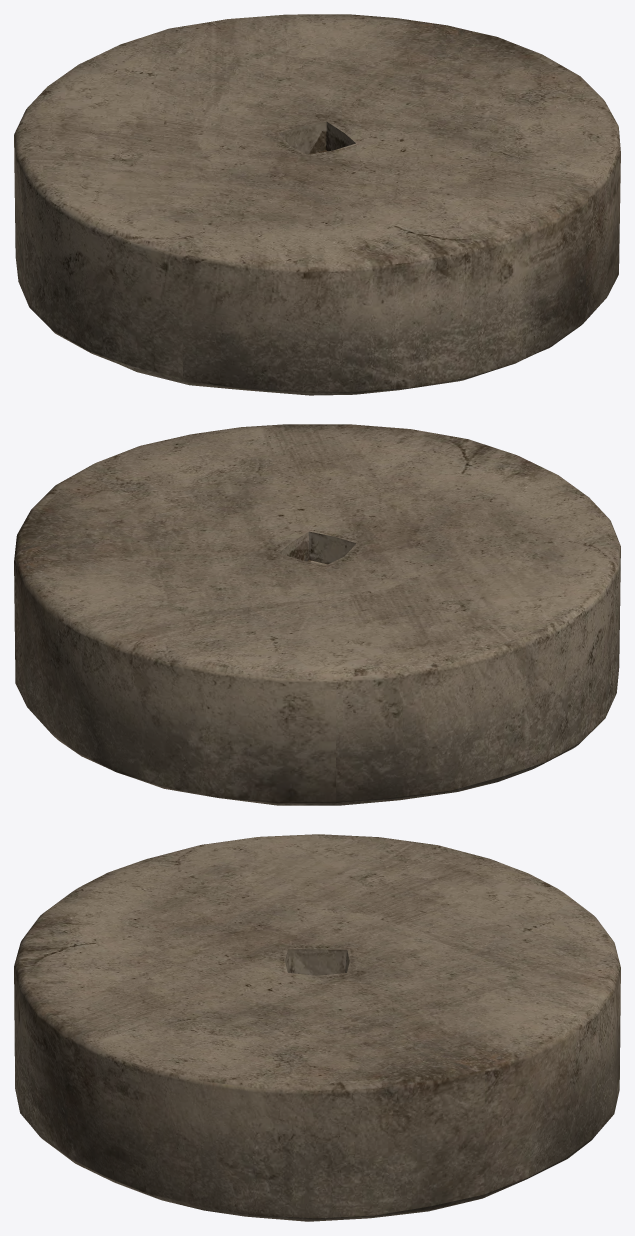
Rendered from stonewheel.glb.
The picture shows the model from 3 angles, top to bottom: view 1: azimuth 30°, elevation 25°; view 2: azimuth 150°, elevation 25°; view 3: azimuth 270°, elevation 25°; orthographic projection.
Parts seen in each view (by area): view 1: Lp_Normal_Map_0; view 2: Lp_Normal_Map_0; view 3: Lp_Normal_Map_0.
Part boxes in pixels (box(x1,y1,x2,y2)): Lp_Normal_Map_0: box(14, 14, 620, 395); Lp_Normal_Map_0: box(14, 424, 620, 805); Lp_Normal_Map_0: box(14, 834, 620, 1221).
Bounding box in the file's own units: 59.89 × 15 × 59.71.
Materials: 1 (1 with a texture image).
